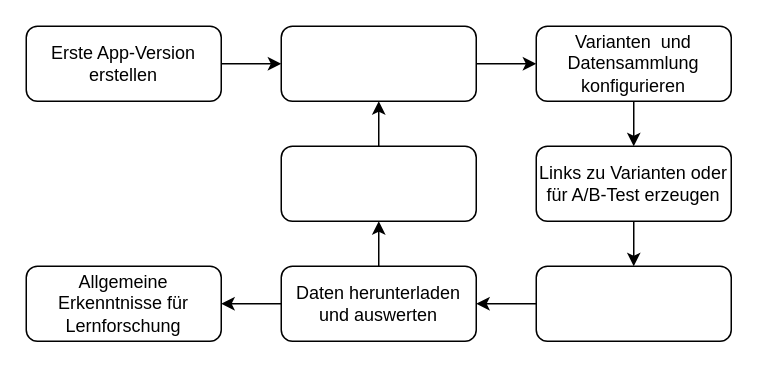
Image size: 758x368. Some labels were removed from this diagram. Here are the shapes that lost their labels. From the top down, the centre of each, then its label:
(378,63): App auf Server bereitstellen
(378,183): Verbesserungen ableiten und App anpassen
(633,303): Links verteilen und im Unterricht nutzen
